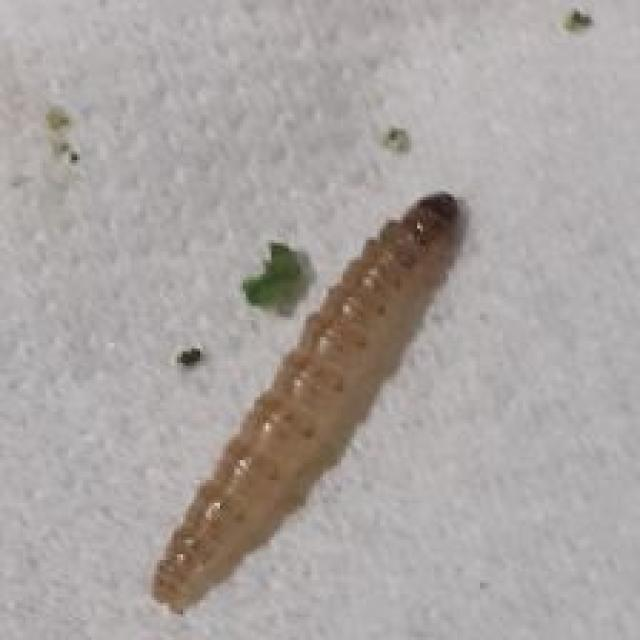white mucus: (140, 181, 497, 600)
